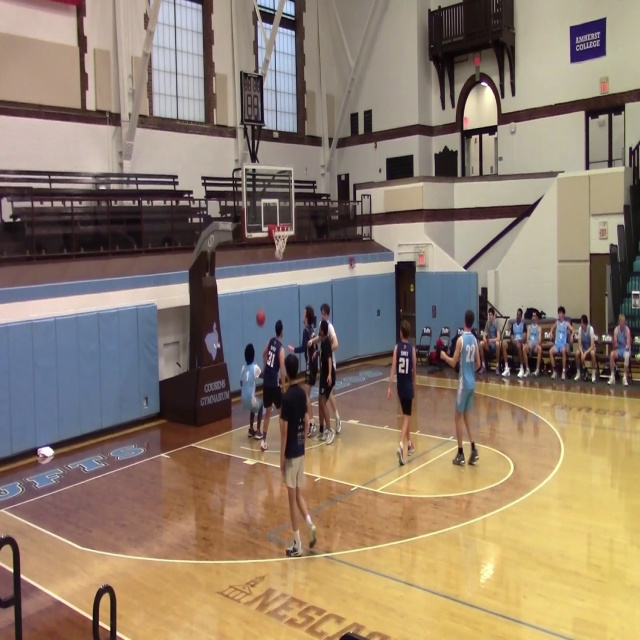Basketball: (284, 354, 299, 378), (37, 446, 54, 464), (37, 446, 54, 458), (256, 309, 265, 326), (287, 345, 294, 353)
